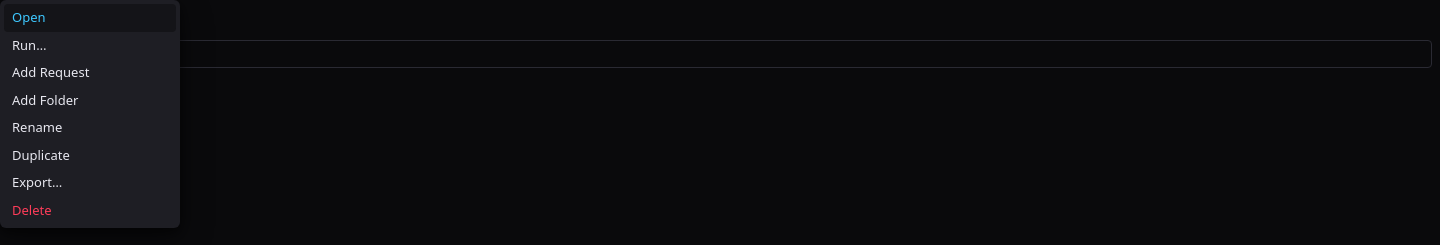
it: SidebarPanel › shows and dismisses errors
The width and height of the screenshot is (1440, 245).
Click the menu item "Duplicate" at (90, 155), box [4, 142, 176, 169]
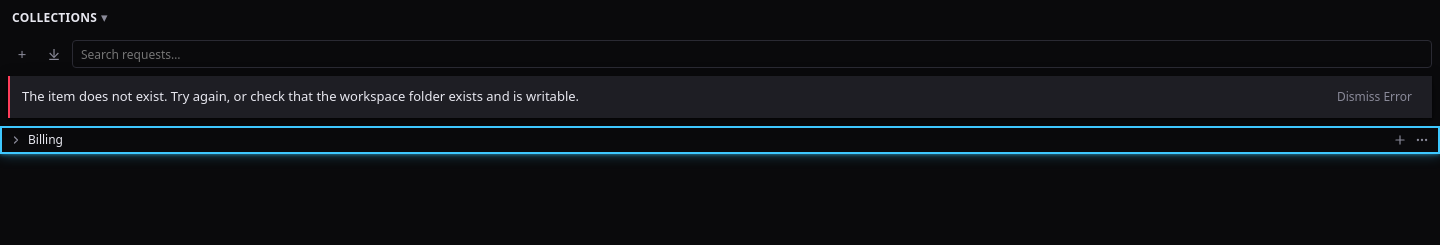
Check: the message shows "The item does not exist", box [22, 87, 579, 105]
Click the button "Dismiss Error" at (1374, 97), box [1329, 84, 1420, 110]
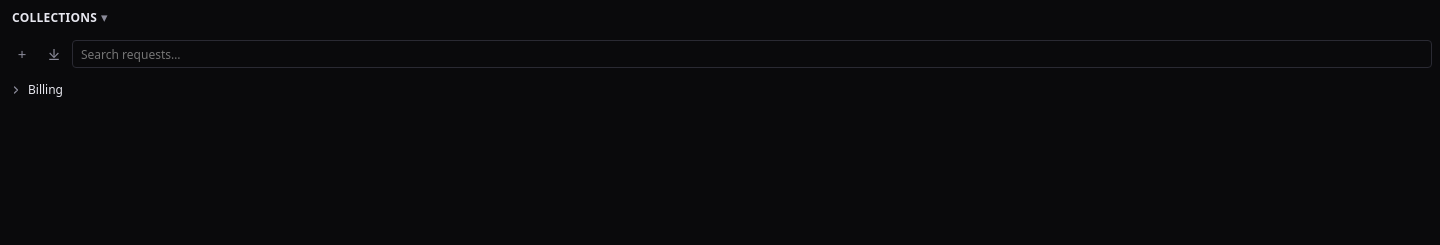
Check: the message is gone
